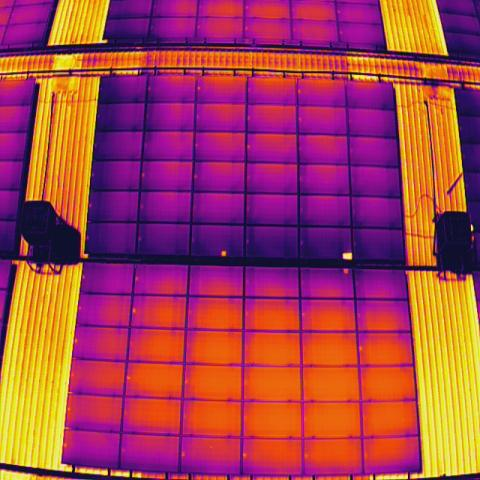fault: (341, 250, 353, 262), (220, 249, 228, 258), (342, 267, 350, 276)
